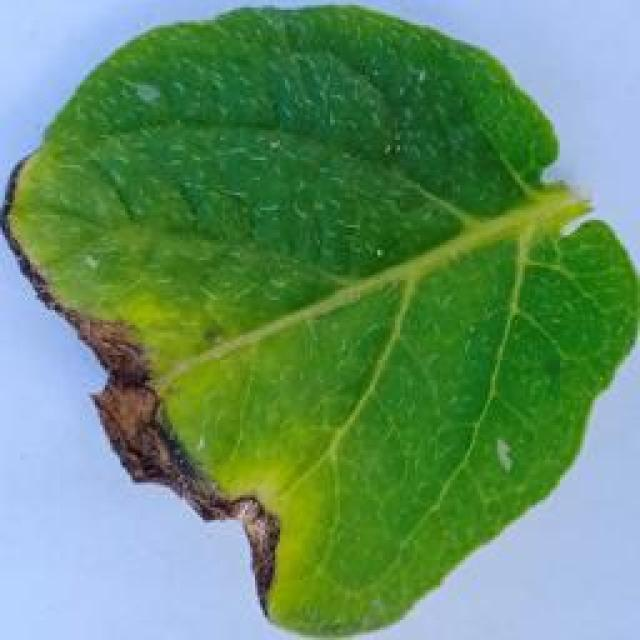Potato_Late_Blight: (16, 10, 640, 634)
